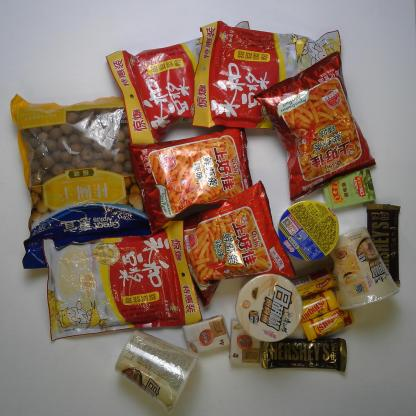Candy: (322, 168, 376, 209), (304, 306, 356, 341), (296, 290, 340, 325), (292, 269, 335, 297)
Chocolate: (259, 335, 347, 374), (366, 201, 402, 288)
Dried Food: (11, 94, 157, 268)
Instant Drink: (42, 218, 204, 340), (108, 21, 252, 148), (188, 20, 351, 130)
Instant Noodles: (112, 330, 197, 404), (326, 228, 401, 311), (234, 273, 305, 344), (279, 200, 341, 262)
Puffed Food: (253, 51, 378, 203), (178, 181, 297, 306), (128, 126, 257, 235)
Tissue: (181, 317, 231, 356), (231, 315, 263, 367)
